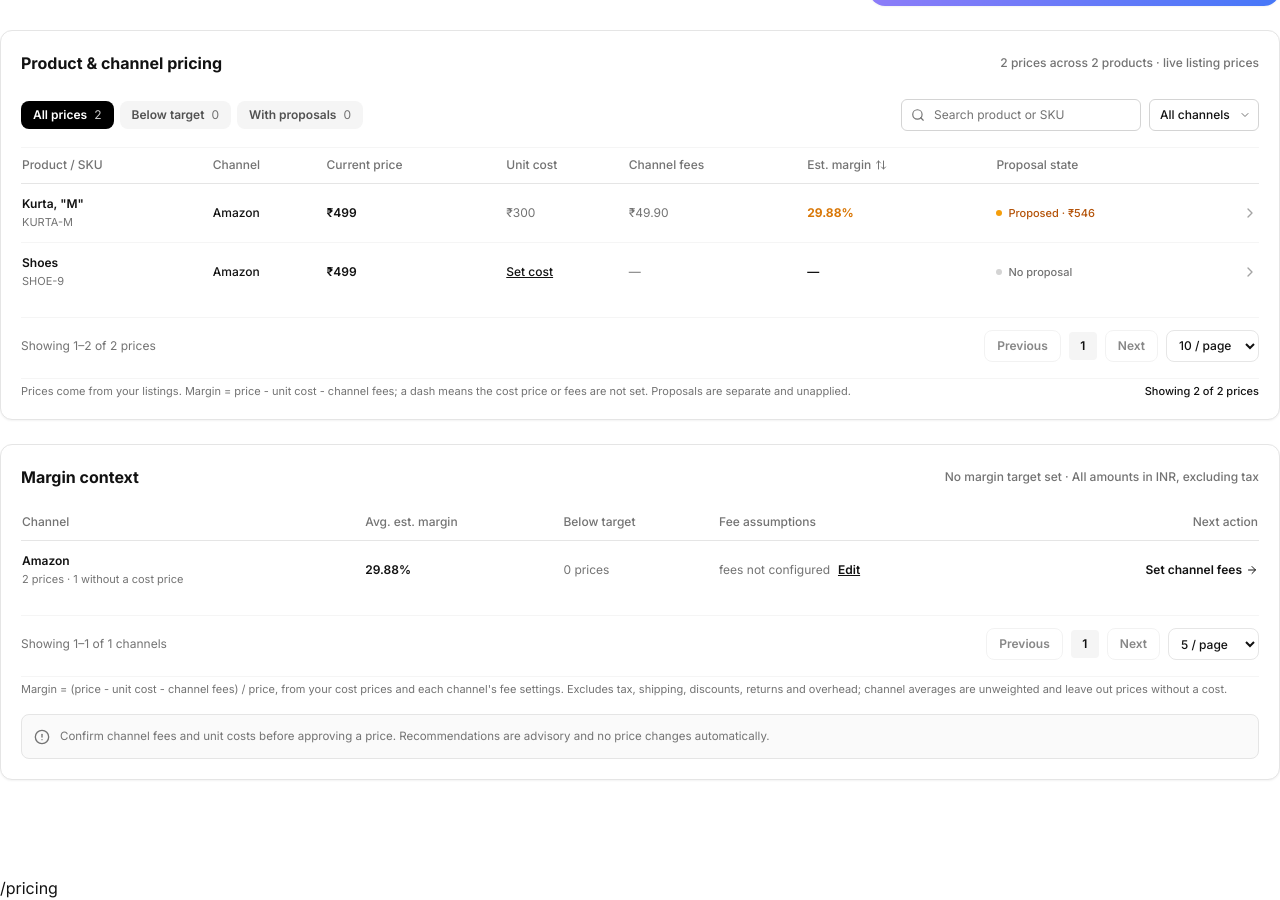
Test: Channel fee editor › is read-only for a viewer
(page scrolled)
What coordinates should you click on to do the following:
click the button "Set channel fees"
I would click on:
 (1202, 570)
Its box is [1146,562,1258,578].
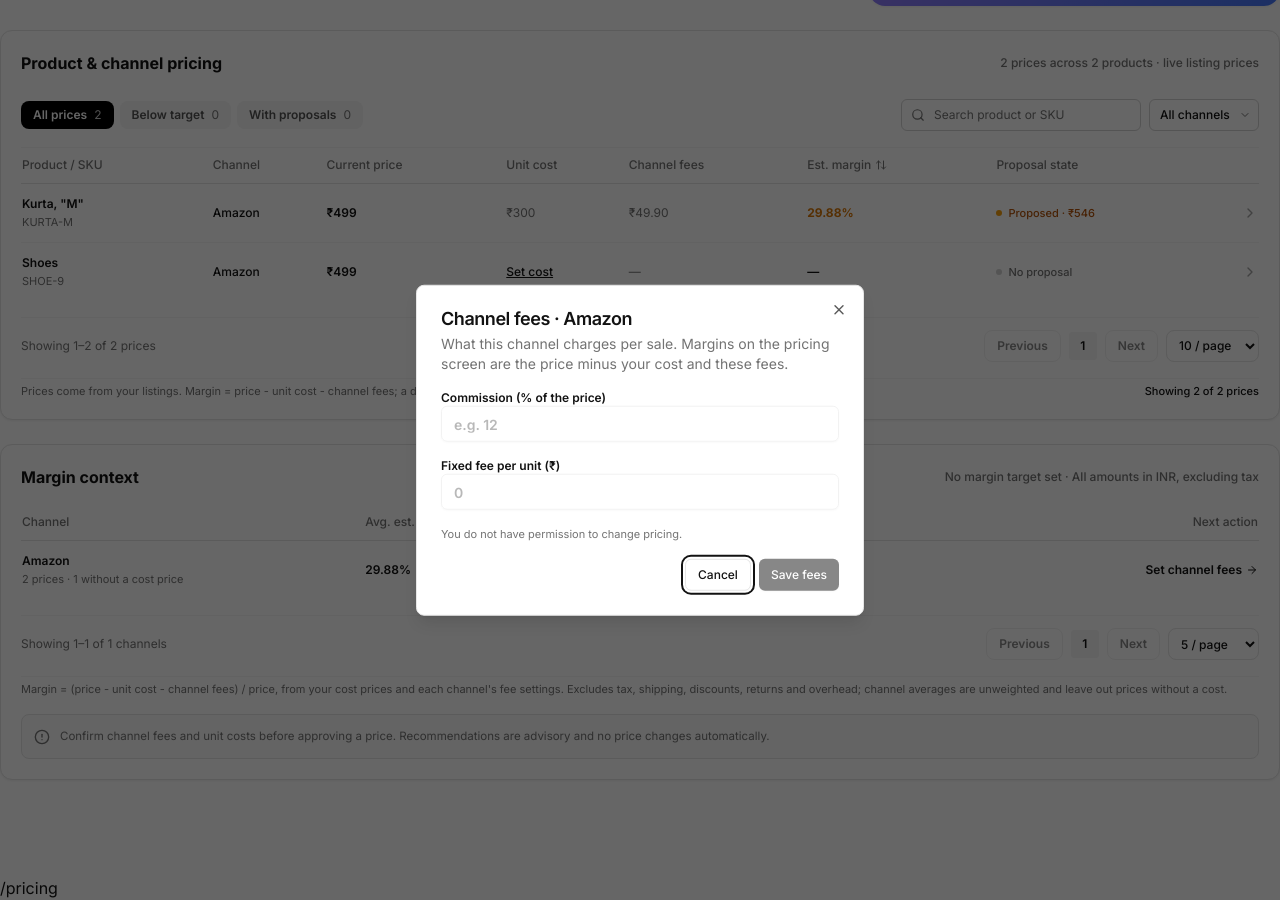
Now the button "Save fees" is disabled, box [759,558,839,590]
Now the field labelled "Commission (% of the price)" is disabled, box [441,406,839,442]
